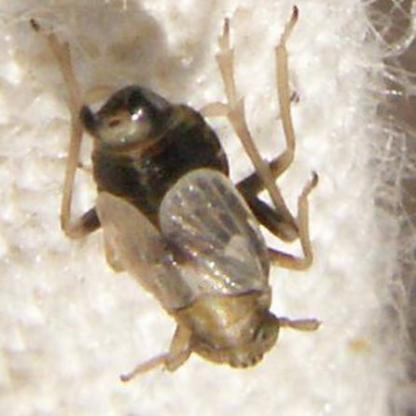brown-planthopper: (67, 81, 328, 378)
